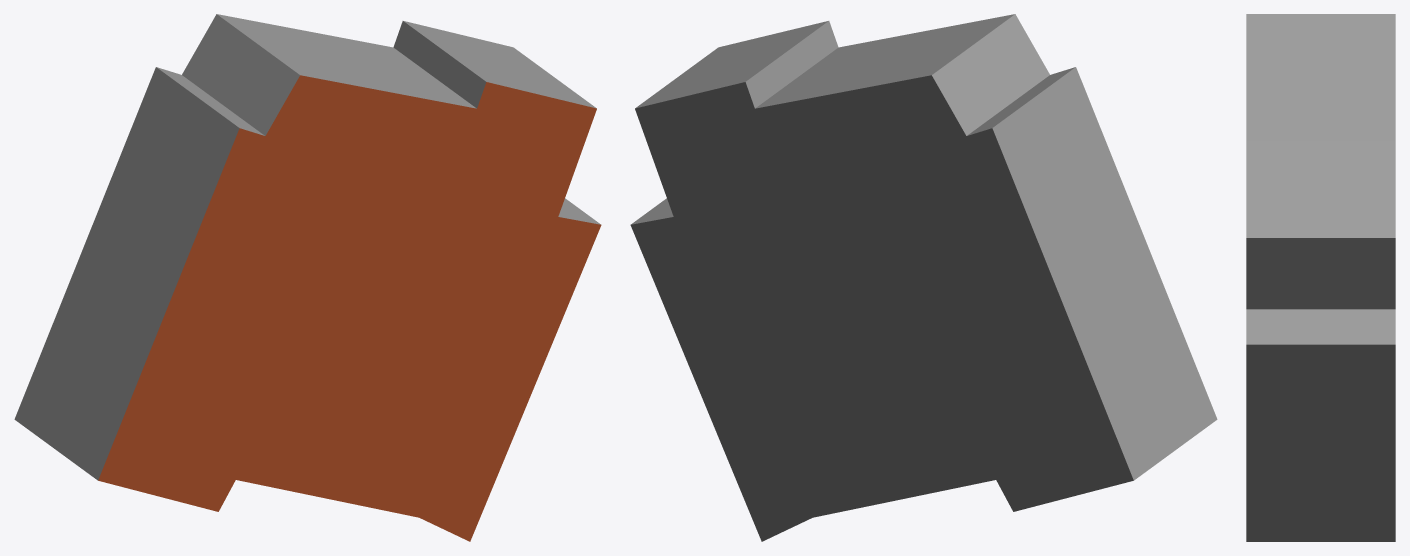
The model's file is construction_4114_assumed_A_Casa_h6m.obj.
3 renders of one model, left to right at view 1: azimuth 30°, elevation 25°; view 2: azimuth 150°, elevation 25°; view 3: azimuth 270°, elevation 25°, orthographic. The views are drawn at different scales.
Parts seen in each view (by area): view 1: construction_4114_assumed_A_Casa; view 2: construction_4114_assumed_A_Casa; view 3: construction_4114_assumed_A_Casa.
Part boxes in pixels (left/top/right/bottom): construction_4114_assumed_A_Casa: left=14, top=14, right=601, bottom=541; construction_4114_assumed_A_Casa: left=630, top=14, right=1217, bottom=541; construction_4114_assumed_A_Casa: left=1246, top=14, right=1395, bottom=541.
Size of the model in its own units: 20.85 by 20.11 by 6.
